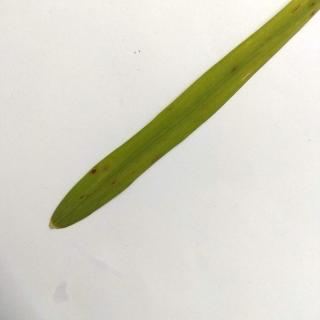bercak-Cokelat: (85, 166, 104, 182)
